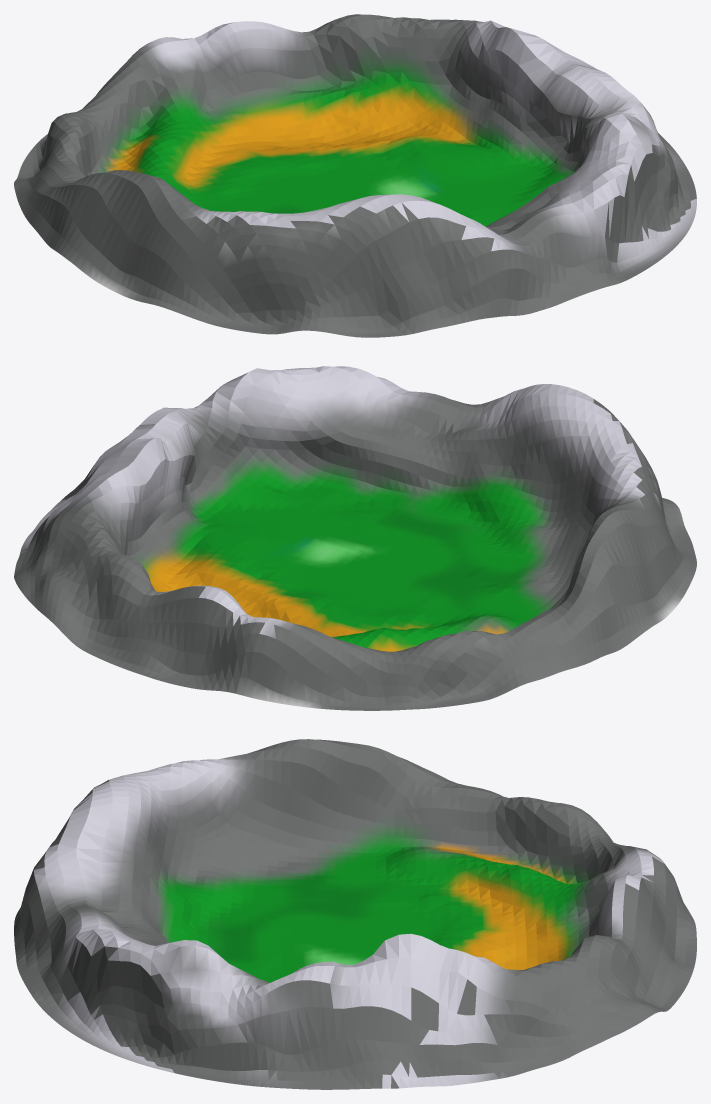
File: terreno.fbx
3 views of the same model, one above another, from view 1: azimuth 30°, elevation 25°; view 2: azimuth 150°, elevation 25°; view 3: azimuth 270°, elevation 25° (orthographic). The views are drawn at different scales.
Visible parts, largest first — view 1: Plane; view 2: Plane; view 3: Plane.
Boxes of the visible parts, bbox=[...] form: Plane: bbox=[14, 14, 696, 337]; Plane: bbox=[14, 366, 696, 710]; Plane: bbox=[14, 739, 696, 1089].
Bounding box in the file's own units: 3332 × 685 × 3316.
